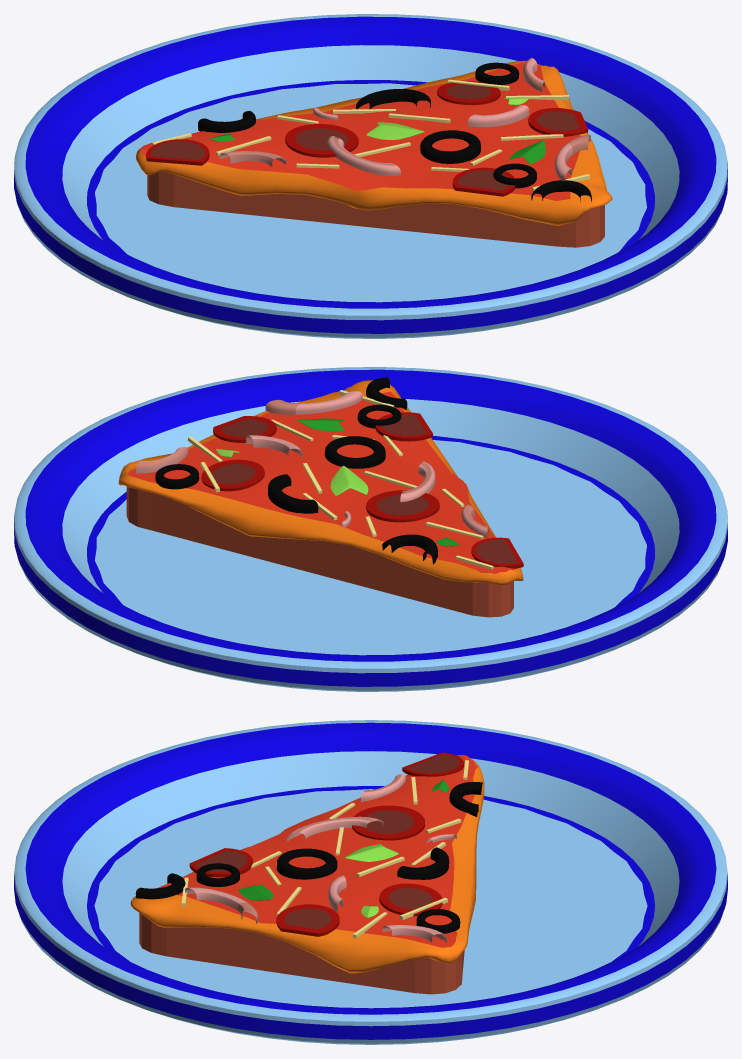
File: Pizza and its plate.fbx
The picture shows the model from 3 angles, top to bottom: view 1: azimuth 30°, elevation 25°; view 2: azimuth 150°, elevation 25°; view 3: azimuth 270°, elevation 25°; orthographic projection.
Visible parts, largest first — view 1: Plate of Pizza, Outer of plate, Pizza sauce, Upper cheese of pizza, Base of pizza, Plate of Pizza Outer, Plate of Pizza Inner 1, Olive 3, Pepperoni 2, Onion Slice 3, Olive 2, Onion Slice 2.003 (+14 smaller); view 2: Plate of Pizza, Outer of plate, Pizza sauce, Base of pizza, Plate of Pizza Outer, Upper cheese of pizza, Plate of Pizza Inner 1, Olive 3, Olive 2, Pepperoni 2, Pepperoni 3, Onion Slice 1.002 (+15 smaller); view 3: Plate of Pizza, Outer of plate, Pizza sauce, Upper cheese of pizza, Plate of Pizza Outer, Base of pizza, Plate of Pizza Inner 1, Olive 3, Pepperoni 2, Pepperoni 5, Pepperoni 2 inner, Olive 2 (+14 smaller).
Boxes of the visible parts, <box> form: Plate of Pizza: <box>14,14,727,338</box>; Outer of plate: <box>25,16,716,308</box>; Pizza sauce: <box>140,62,580,200</box>; Upper cheese of pizza: <box>136,60,612,225</box>; Base of pizza: <box>147,171,604,247</box>; Plate of Pizza Outer: <box>14,169,727,333</box>; Plate of Pizza Inner 1: <box>87,80,654,253</box>; Olive 3: <box>420,130,480,163</box>; Pepperoni 2: <box>285,124,358,157</box>; Onion Slice 3: <box>327,136,400,176</box>; Olive 2: <box>356,89,430,109</box>; Onion Slice 2.003: <box>467,105,529,127</box>; Plate of Pizza: <box>14,367,727,691</box>; Outer of plate: <box>25,369,716,661</box>; Pizza sauce: <box>127,391,517,573</box>; Base of pizza: <box>126,486,513,617</box>; Plate of Pizza Outer: <box>14,522,727,686</box>; Upper cheese of pizza: <box>118,380,523,584</box>; Plate of Pizza Inner 1: <box>87,435,654,606</box>; Olive 3: <box>324,436,385,468</box>; Olive 2: <box>267,474,318,513</box>; Pepperoni 2: <box>366,490,439,522</box>; Pepperoni 3: <box>201,459,264,491</box>; Onion Slice 1.002: <box>295,391,362,414</box>; Plate of Pizza: <box>14,720,727,1044</box>; Outer of plate: <box>25,722,716,1014</box>; Pizza sauce: <box>157,754,477,947</box>; Upper cheese of pizza: <box>130,761,484,973</box>; Plate of Pizza Outer: <box>14,877,727,1039</box>; Base of pizza: <box>139,913,464,994</box>; Plate of Pizza Inner 1: <box>87,786,654,961</box>; Olive 3: <box>276,848,337,879</box>; Pepperoni 2: <box>352,805,424,840</box>; Pepperoni 5: <box>276,904,339,936</box>; Pepperoni 2 inner: <box>365,810,414,833</box>; Olive 2: <box>397,847,449,879</box>.
Size of the model in its own units: 1914 by 267 by 1914.
